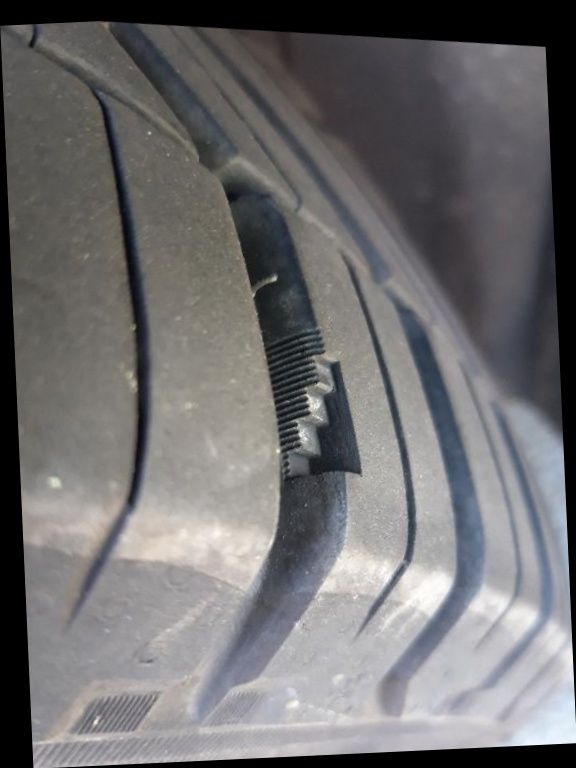temoin:90: (246, 313, 381, 498)
